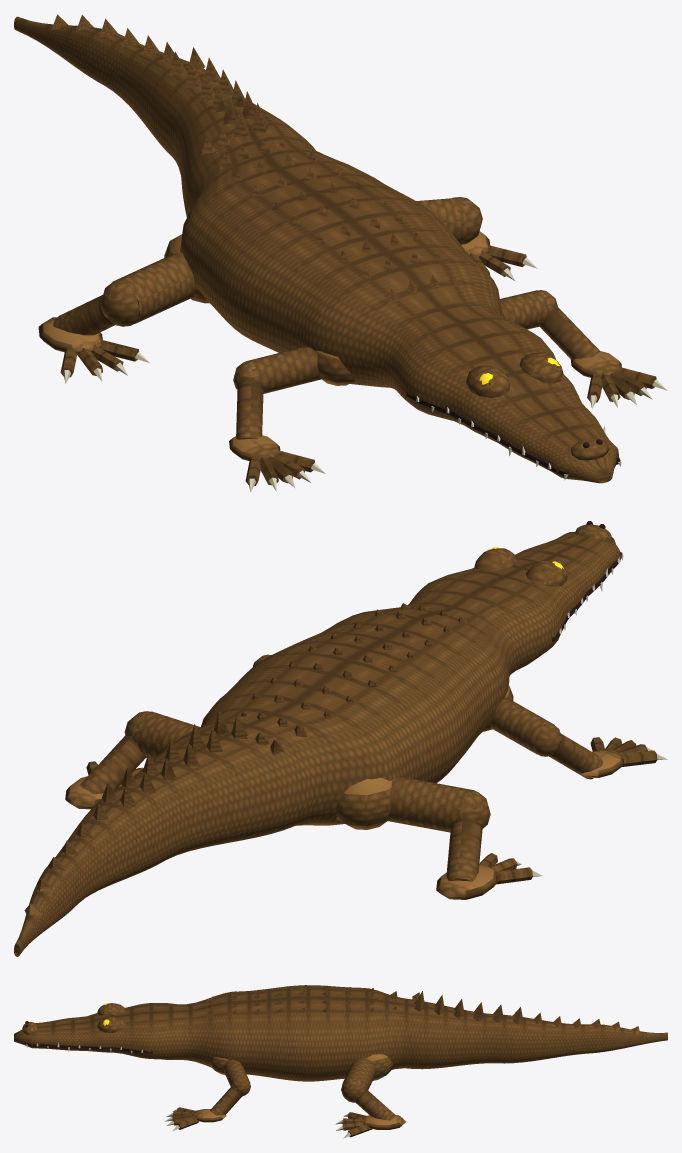
File: gator-bronze.glb
3 views of the same model, one above another, from view 1: azimuth 30°, elevation 25°; view 2: azimuth 150°, elevation 25°; view 3: azimuth 270°, elevation 25° (orthographic). The views are drawn at different scales.
Visible parts, largest first — view 1: gator-bronze; view 2: gator-bronze; view 3: gator-bronze.
Boxes of the visible parts, x1=… form: gator-bronze: x1=14, y1=14, x2=667, y2=491; gator-bronze: x1=14, y1=521, x2=667, y2=956; gator-bronze: x1=14, y1=985, x2=667, y2=1138.
Size of the model in its own units: 1.81 by 0.6024 by 4.
Materials: 6 (1 with a texture image).
